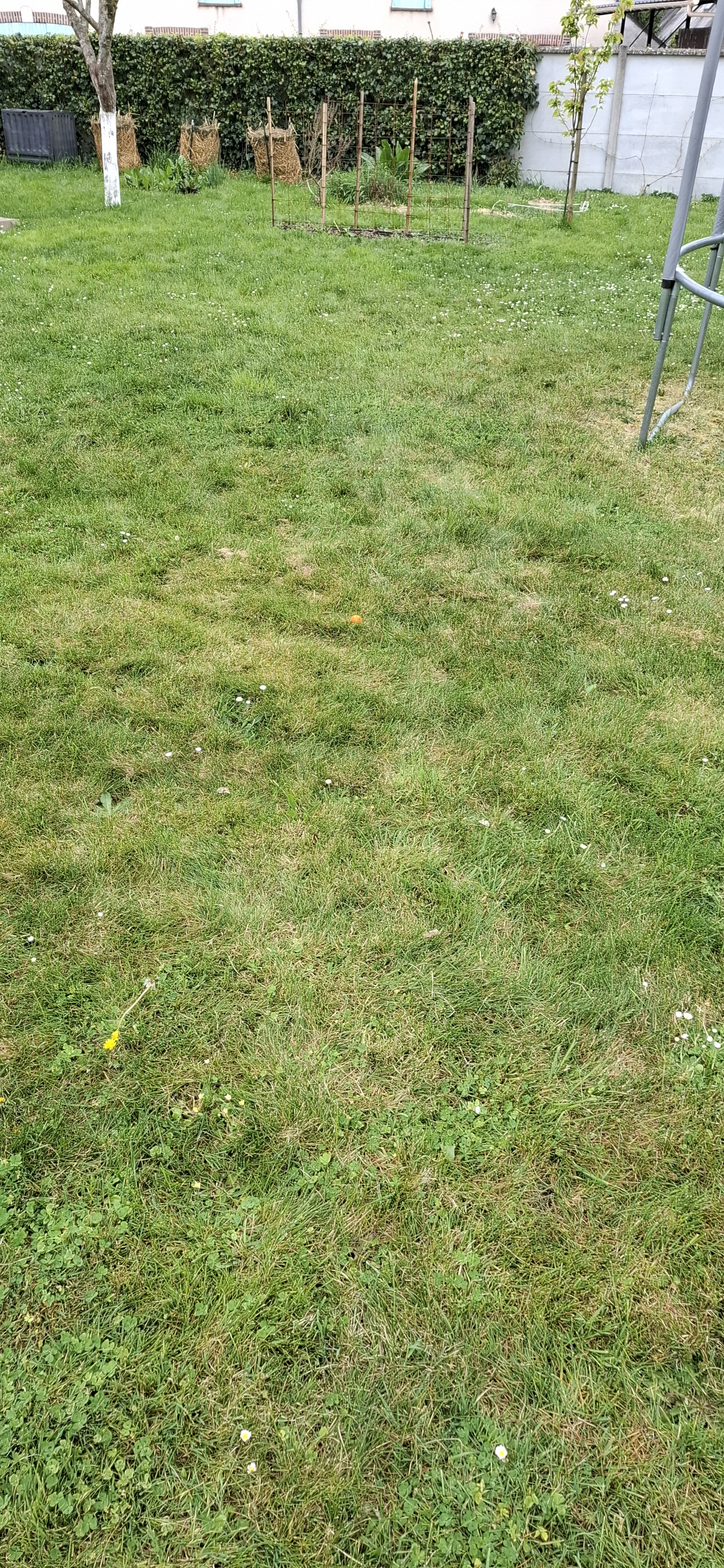ball: (284, 785, 289, 808)
